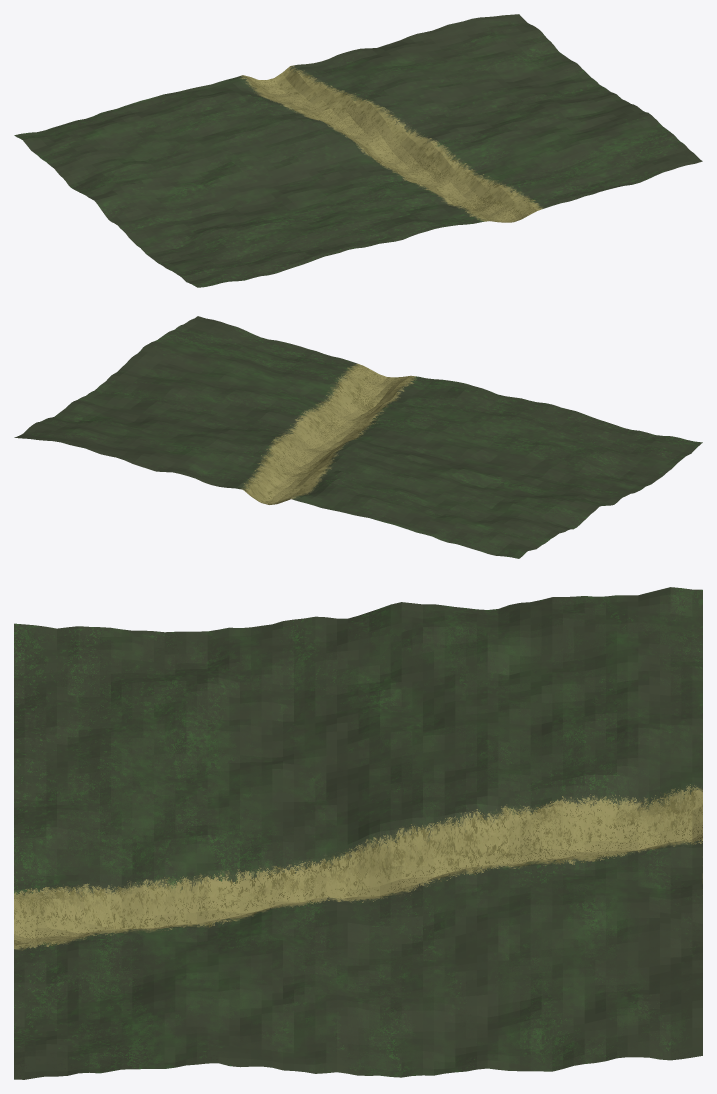
Rendered from TerrenoV3.fbx.
3 views of the same model, one above another, from view 1: azimuth 30°, elevation 25°; view 2: azimuth 150°, elevation 25°; view 3: azimuth 270°, elevation 25° (orthographic). The views are drawn at different scales.
Visible parts, largest first — view 1: Plane; view 2: Plane; view 3: Plane.
Part boxes in pixels (box(x1,y1,x2,y2)): Plane: box(14, 14, 702, 287); Plane: box(14, 316, 702, 558); Plane: box(14, 587, 702, 1079).
Size of the model in its own units: 29914 by 2402 by 18853.
Materials: 1 (1 with a texture image).
